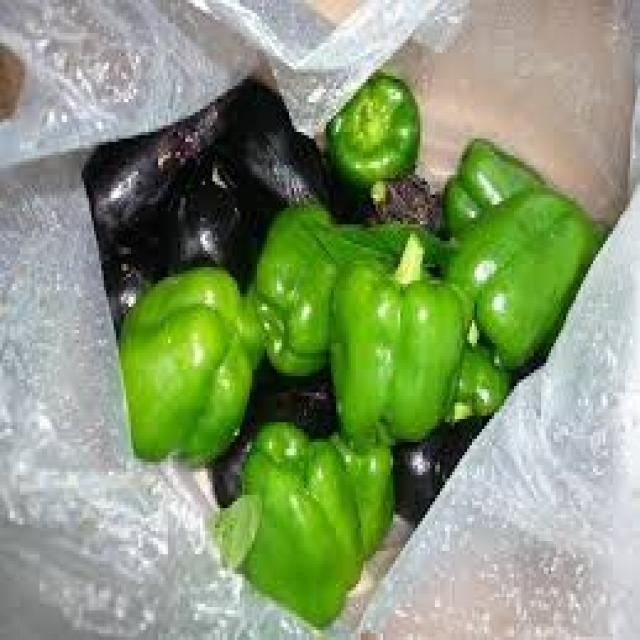organic waste: (116, 138, 588, 260), (116, 267, 546, 353), (121, 360, 475, 436), (240, 419, 363, 623), (326, 251, 460, 435), (447, 205, 546, 356), (86, 145, 277, 208), (235, 79, 274, 383), (333, 422, 393, 551), (329, 115, 415, 185), (469, 139, 492, 244)
